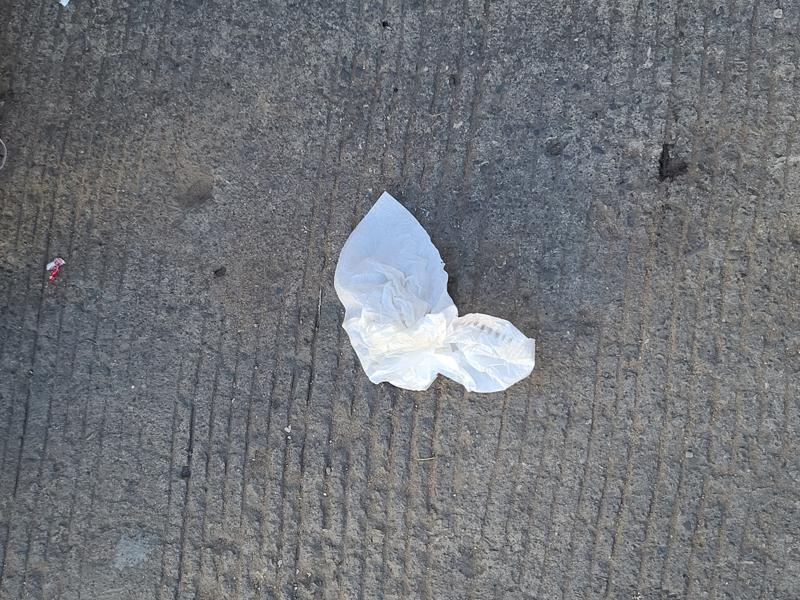papel: (332, 192, 537, 396)
